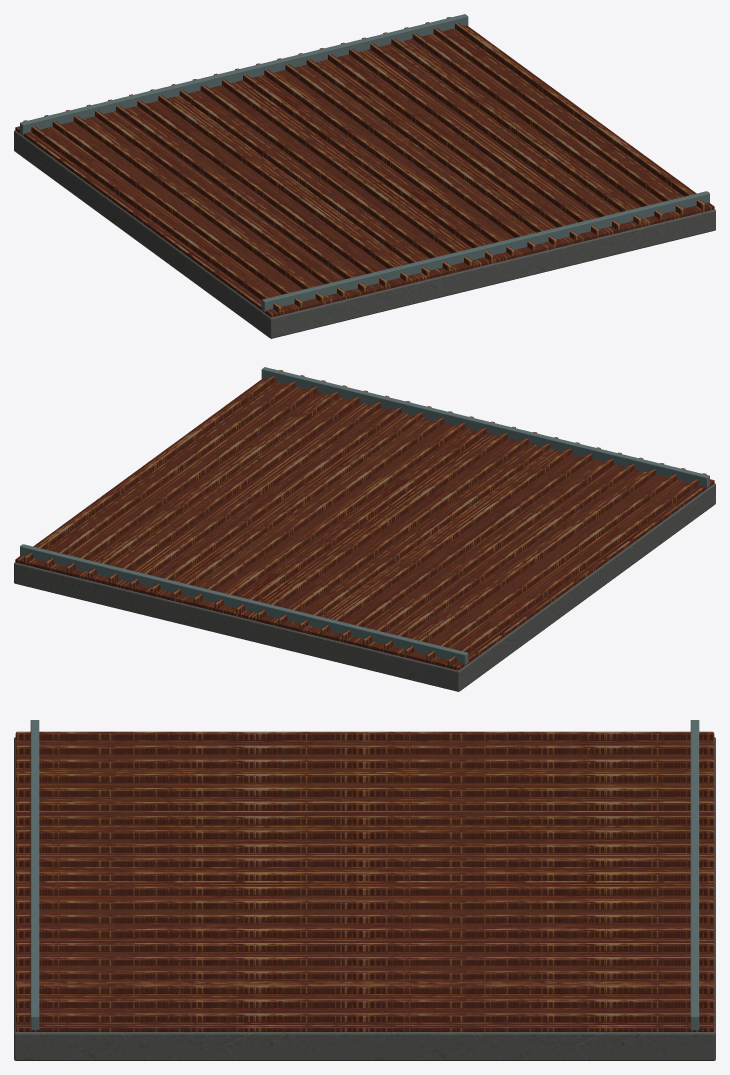
The model's file is roof_4m.glb.
3 views of the same model, one above another, from view 1: azimuth 30°, elevation 25°; view 2: azimuth 150°, elevation 25°; view 3: azimuth 270°, elevation 25° (orthographic). The views are drawn at different scales.
Parts seen in each view (by area): view 1: Weathered steel roofing, Roof concrete deck, Roof edge flashing, Roof edge flashing.001, Raised standing seam 13, Raised standing seam 18, Raised standing seam 06, Raised standing seam 07, Raised standing seam 19, Raised standing seam 00, Raised standing seam 01, Raised standing seam 12 (+13 smaller); view 2: Weathered steel roofing, Roof concrete deck, Roof edge flashing, Roof edge flashing.001, Raised standing seam 13, Raised standing seam 18, Raised standing seam 06, Raised standing seam 07, Raised standing seam 19, Raised standing seam 00, Raised standing seam 01, Raised standing seam 12 (+13 smaller); view 3: Weathered steel roofing, Roof concrete deck, Raised standing seam 01, Raised standing seam 02, Raised standing seam 12, Raised standing seam 13, Raised standing seam 00, Raised standing seam 11, Raised standing seam 03, Raised standing seam 04, Raised standing seam 05, Raised standing seam 06 (+13 smaller).
Part boxes in pixels (left/top/right/bottom): Weathered steel roofing: left=15, top=25, right=714, bottom=317; Roof concrete deck: left=14, top=130, right=715, bottom=338; Roof edge flashing: left=261, top=191, right=709, bottom=311; Roof edge flashing.001: left=20, top=14, right=468, bottom=134; Raised standing seam 13: left=298, top=53, right=557, bottom=245; Raised standing seam 18: left=404, top=27, right=663, bottom=219; Raised standing seam 06: left=150, top=89, right=409, bottom=281; Raised standing seam 07: left=171, top=84, right=430, bottom=276; Raised standing seam 19: left=425, top=22, right=684, bottom=214; Raised standing seam 00: left=23, top=120, right=282, bottom=312; Raised standing seam 01: left=44, top=115, right=303, bottom=307; Raised standing seam 12: left=277, top=58, right=536, bottom=250; Weathered steel roofing: left=15, top=378, right=714, bottom=670; Roof concrete deck: left=14, top=483, right=715, bottom=691; Roof edge flashing: left=261, top=367, right=709, bottom=487; Roof edge flashing.001: left=20, top=544, right=468, bottom=664; Raised standing seam 13: left=172, top=406, right=431, bottom=598; Raised standing seam 18: left=66, top=380, right=325, bottom=572; Raised standing seam 06: left=320, top=442, right=579, bottom=634; Raised standing seam 07: left=299, top=437, right=558, bottom=629; Raised standing seam 19: left=45, top=375, right=304, bottom=567; Raised standing seam 00: left=447, top=473, right=706, bottom=665; Raised standing seam 01: left=426, top=468, right=685, bottom=660; Raised standing seam 12: left=193, top=411, right=452, bottom=603; Weathered steel roofing: left=15, top=740, right=714, bottom=1031; Roof concrete deck: left=14, top=737, right=715, bottom=1060; Raised standing seam 01: left=15, top=745, right=714, bottom=754; Raised standing seam 02: left=15, top=759, right=714, bottom=768; Raised standing seam 12: left=15, top=900, right=714, bottom=909; Raised standing seam 13: left=15, top=914, right=714, bottom=923; Raised standing seam 00: left=15, top=731, right=714, bottom=740; Raised standing seam 11: left=15, top=886, right=714, bottom=895; Raised standing seam 03: left=15, top=774, right=714, bottom=782; Raised standing seam 04: left=15, top=788, right=714, bottom=796; Raised standing seam 05: left=15, top=802, right=714, bottom=810; Raised standing seam 06: left=15, top=816, right=714, bottom=824.
Bounding box in the file's own units: 4 × 0.285 × 4.
3 materials, 2 textured.
